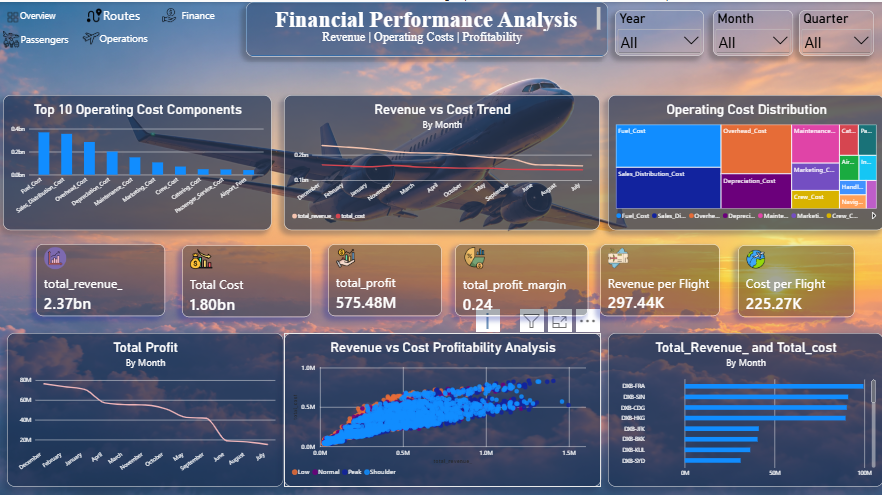

Layout of this report page (visuals, bound fields, positions):
{"tool":"powerbi","page":{"name":"Financial Performance Analysis","canvas":[1920,1080],"ordinal":2},"visuals":[{"type":"lineChart","title":"Total Profit","fields":{"Category":["Dim_Date.Month"],"Y":["calculation_tbl.total_profit"]},"box":[18.8,715.8,596.9,331.8],"z":0},{"type":"scatterChart","title":"Revenue vs Cost Profitability Analysis","fields":{"Category":["airline_route_profitability_cleaned.Flight_Number"],"Series":["airline_route_profitability_cleaned.Season"],"X":["calculation_tbl.total_revenue_"],"Y":["calculation_tbl.total_cost"]},"box":[617.7,715.8,684.5,331.8],"z":1000},{"type":"clusteredBarChart","title":"Total_Revenue_ and Total_cost","fields":{"Category":["route_details.Route"],"Y":["calculation_tbl.total_profit"]},"box":[1316.9,715.8,594.8,331.8],"z":2000},{"type":"cardVisual","fields":{"Data":["calculation_tbl.total_cost"]},"box":[396.5,523.8,278.7,155.6],"z":3000},{"type":"cardVisual","fields":{"Data":["calculation_tbl.Revenue per Flight"]},"box":[1299.3,523,258.8,155.6],"z":4000},{"type":"cardVisual","fields":{"Data":["calculation_tbl.total_profit_margin"]},"box":[986.3,523,287.7,155.6],"z":5000},{"type":"cardVisual","fields":{"Data":["calculation_tbl.total_profit"]},"box":[713,523,246.1,155.6],"z":6000},{"type":"cardVisual","fields":{"Data":["calculation_tbl.Cost per Flight"]},"box":[1598.6,523.8,251.5,155.6],"z":7000},{"type":"shape","box":[535.7,0,781.8,117.6],"z":8000},{"type":"textbox","box":[557.4,10.9,743.8,52.5],"z":9000},{"type":"textbox","box":[649,60.5,536.3,45.9],"z":10000},{"type":"clusteredColumnChart","title":"Top 10 Operating Cost Components","fields":{"Category":["Cost_Breakdown.Cost Component"],"Y":["Sum(Cost_Breakdown.Cost Amount)"]},"box":[10.4,200.3,580.2,292.2],"z":11000},{"type":"treemap","title":"Operating Cost Distribution","fields":{"Group":["Cost_Breakdown.Cost Component"],"Values":["Sum(Cost_Breakdown.Cost Amount)"]},"box":[1316.9,200.3,596.9,292.2],"z":12000},{"type":"cardVisual","fields":{"Data":["calculation_tbl.total_revenue_"]},"box":[81.4,521.7,278.7,155.6],"z":13000},{"type":"lineChart","title":"Revenue vs Cost Trend","fields":{"Category":["Dim_Date.Month"],"Y":["calculation_tbl.total_revenue_","calculation_tbl.total_cost"]},"box":[617.7,200.3,682.4,292.2],"z":14000},{"type":"slicer","fields":{"Values":["Dim_Date.Year"]},"box":[1331.9,16.3,193.6,63.3],"z":15000},{"type":"slicer","fields":{"Values":["Dim_Date.Month"]},"box":[1543.6,16.3,173.7,63.3],"z":16000},{"type":"slicer","fields":{"Values":["Dim_Date.Quarter"]},"box":[1730,18.1,162.9,63.3],"z":17000},{"type":"actionButton","box":[169,10.6,169,36.1],"z":18000},{"type":"actionButton","box":[16.7,12.8,133.6,38.3],"z":19000},{"type":"textbox","box":[47.1,18.1,85.6,34],"z":20000},{"type":"actionButton","box":[175.5,57.9,173.2,40.4],"z":21000},{"type":"actionButton","box":[10.4,63.8,139.8,48.9],"z":22000},{"type":"textbox","box":[168.3,10.9,152.3,36.1],"z":23000},{"type":"image","box":[187.8,10.6,39.7,36.1],"z":24000},{"type":"textbox","box":[367.4,12.7,129.4,38.3],"z":25000},{"type":"image","box":[352.7,0,35.5,57.4],"z":26000},{"type":"textbox","box":[19.9,65.1,141.9,31.9],"z":27000},{"type":"image","box":[10.4,55.3,35.5,48.9],"z":28000},{"type":"textbox","box":[208.1,63.3,119,34],"z":29000},{"type":"image","box":[175.5,61.5,52.5,36.2],"z":30000},{"type":"image","box":[2.1,17,59.7,31.3],"z":31000}]}

Visuals, with their boxes on the page's 1920x1080 design canvas (x1, y1, x2, y2). These are canvas units, not pixel positions in the 882x495 screenshot, which may show the page scaled, cropped or inside an application window:
"Total Profit" lineChart: rect(19, 716, 616, 1048)
"Revenue vs Cost Profitability Analysis" scatterChart: rect(618, 716, 1302, 1048)
"Total_Revenue_ and Total_cost" clusteredBarChart: rect(1317, 716, 1912, 1048)
cardVisual - calculation_tbl.total_cost: rect(396, 524, 675, 679)
cardVisual - calculation_tbl.Revenue per Flight: rect(1299, 523, 1558, 679)
cardVisual - calculation_tbl.total_profit_margin: rect(986, 523, 1274, 679)
cardVisual - calculation_tbl.total_profit: rect(713, 523, 959, 679)
cardVisual - calculation_tbl.Cost per Flight: rect(1599, 524, 1850, 679)
shape: rect(536, 0, 1318, 118)
textbox: rect(557, 11, 1301, 63)
textbox: rect(649, 60, 1185, 106)
"Top 10 Operating Cost Components" clusteredColumnChart: rect(10, 200, 591, 492)
"Operating Cost Distribution" treemap: rect(1317, 200, 1914, 492)
cardVisual - calculation_tbl.total_revenue_: rect(81, 522, 360, 677)
"Revenue vs Cost Trend" lineChart: rect(618, 200, 1300, 492)
slicer - Dim_Date.Year: rect(1332, 16, 1526, 80)
slicer - Dim_Date.Month: rect(1544, 16, 1717, 80)
slicer - Dim_Date.Quarter: rect(1730, 18, 1893, 81)
actionButton: rect(169, 11, 338, 47)
actionButton: rect(17, 13, 150, 51)
textbox: rect(47, 18, 133, 52)
actionButton: rect(176, 58, 349, 98)
actionButton: rect(10, 64, 150, 113)
textbox: rect(168, 11, 321, 47)
image: rect(188, 11, 228, 47)
textbox: rect(367, 13, 497, 51)
image: rect(353, 0, 388, 57)
textbox: rect(20, 65, 162, 97)
image: rect(10, 55, 46, 104)
textbox: rect(208, 63, 327, 97)
image: rect(176, 62, 228, 98)
image: rect(2, 17, 62, 48)
